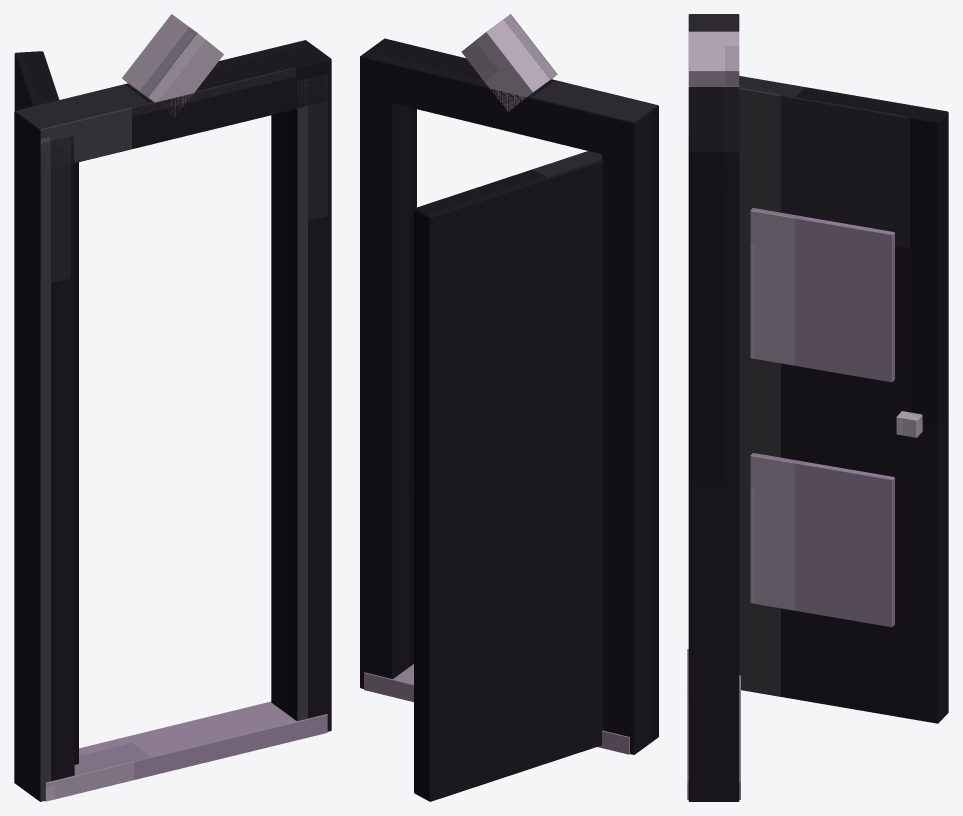
The model's file is gothic_room_door.glb.
The picture shows the model from 3 angles, left to right: view 1: azimuth 30°, elevation 25°; view 2: azimuth 150°, elevation 25°; view 3: azimuth 270°, elevation 25°; orthographic projection. The views are drawn at different scales.
Parts seen in each view (by area): view 1: DoorFrameL, DoorFrameR, DoorFrameTop, Threshold, DoorSpire, OpenDoorLeaf; view 2: OpenDoorLeaf, DoorFrameL, DoorFrameR, DoorFrameTop, DoorSpire, Threshold; view 3: OpenDoorLeaf, DoorFrameR, DoorPanel_1, DoorPanel_2, DoorFrameTop, DoorSpire, DoorHandle, Threshold.
Boxes of the visible parts, x1=… form: DoorFrameL: x1=14, y1=125, x2=74, y2=801; DoorFrameR: x1=271, y1=73, x2=331, y2=731; DoorFrameTop: x1=14, y1=40, x2=331, y2=170; Threshold: x1=45, y1=701, x2=327, y2=801; DoorSpire: x1=122, y1=14, x2=223, y2=117; OpenDoorLeaf: x1=14, y1=51, x2=78, y2=764; OpenDoorLeaf: x1=414, y1=151, x2=603, y2=801; DoorFrameL: x1=602, y1=118, x2=658, y2=754; DoorFrameR: x1=360, y1=69, x2=416, y2=688; DoorFrameTop: x1=360, y1=38, x2=658, y2=160; DoorSpire: x1=461, y1=14, x2=557, y2=111; Threshold: x1=364, y1=664, x2=629, y2=754; OpenDoorLeaf: x1=739, y1=76, x2=948, y2=723; DoorFrameR: x1=688, y1=165, x2=739, y2=801; DoorPanel_1: x1=750, y1=453, x2=894, y2=627; DoorPanel_2: x1=750, y1=208, x2=894, y2=382; DoorFrameTop: x1=688, y1=14, x2=739, y2=191; DoorSpire: x1=688, y1=31, x2=739, y2=86; DoorHandle: x1=896, y1=411, x2=922, y2=437; Threshold: x1=687, y1=649, x2=740, y2=799.
Bounding box in the file's own units: 1.16 × 2.77 × 0.9282.
1 material, 1 textured.
